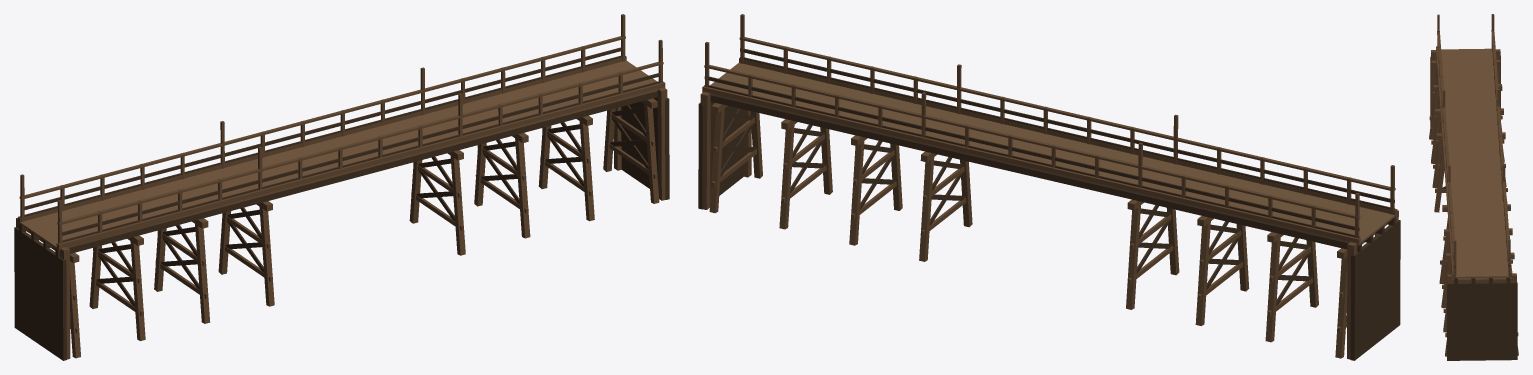
The model's file is SM_Bridge_LakeWalk.fbx.
The picture shows the model from 3 angles, left to right: view 1: azimuth 30°, elevation 25°; view 2: azimuth 150°, elevation 25°; view 3: azimuth 270°, elevation 25°; orthographic projection. The views are drawn at different scales.
Visible parts, largest first — view 1: SM_Bridge_LakeWalk; view 2: SM_Bridge_LakeWalk; view 3: SM_Bridge_LakeWalk.
Part boxes in pixels (<box>): SM_Bridge_LakeWalk: <box>14,14,669,360</box>; SM_Bridge_LakeWalk: <box>698,14,1400,360</box>; SM_Bridge_LakeWalk: <box>1429,14,1518,360</box>.
Size of the model in its own units: 30.27 by 7.43 by 4.97.
